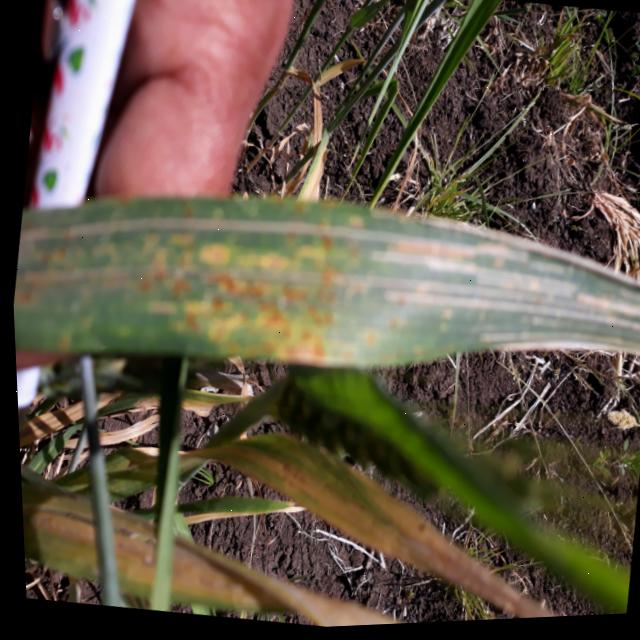black_stem_rust: (6, 146, 640, 449), (14, 384, 621, 640)
